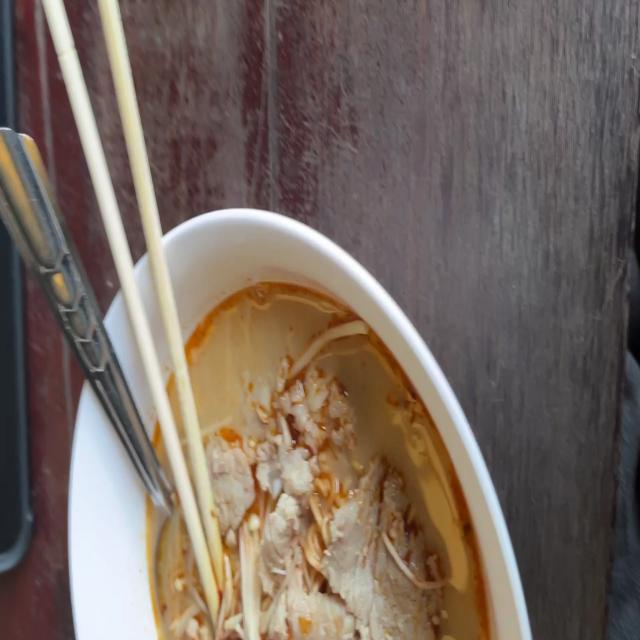noodle: (135, 268, 500, 640)
